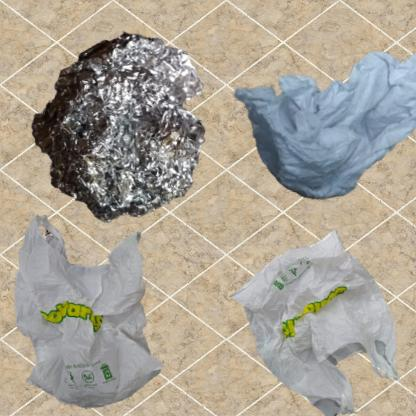aluminio: (10, 10, 241, 256)
bolsa: (213, 213, 416, 416), (10, 213, 169, 412)
papel: (213, 10, 416, 231)
